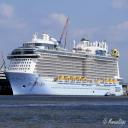cruises: (4, 31, 126, 98)
